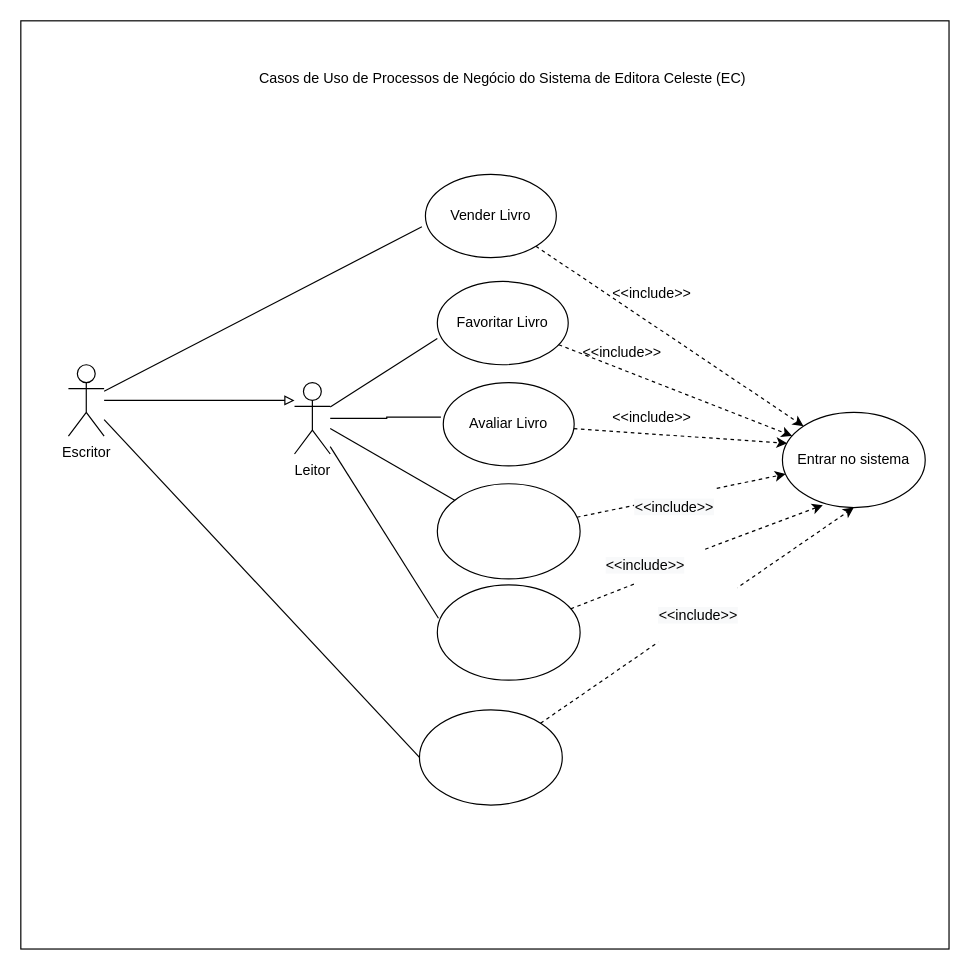
This 970x970 diagram has some shape labels left out. Each missing label, with the centre of its shape:
"Adicionar post ao feed" goes at [490,757].
"Denunciar Livro" goes at [508,531].
"Visualizar o feed" goes at [508,632].
